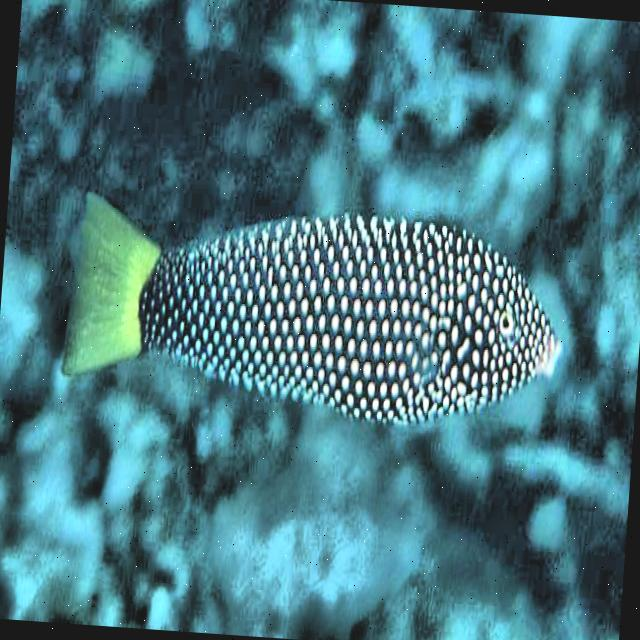fish: (52, 167, 570, 467)
